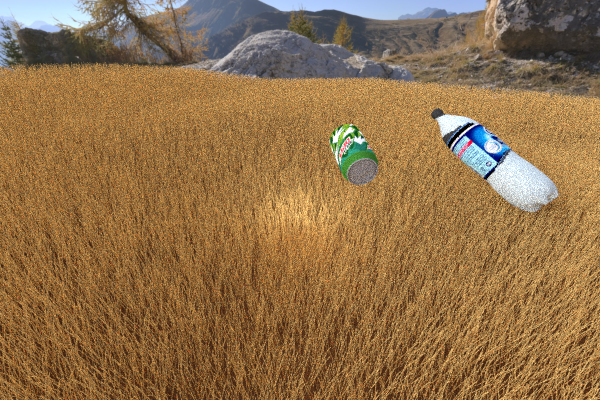Plastic Bottle: (427, 107, 552, 210), (466, 183, 595, 279), (398, 91, 435, 109)
